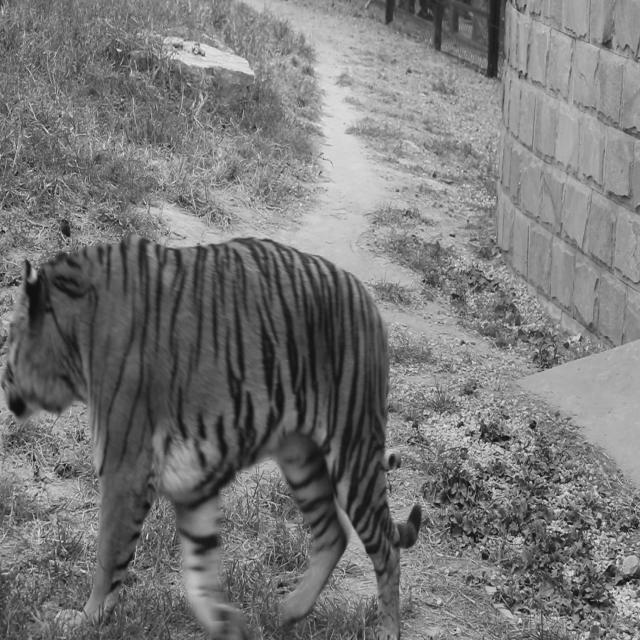Tiger: (1, 231, 422, 638)
